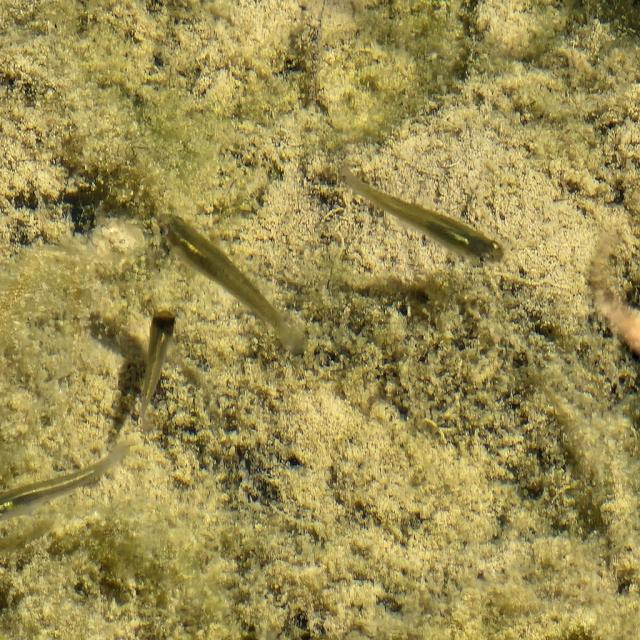Sivrisinek Baligi: (155, 205, 308, 357), (336, 156, 506, 267), (0, 425, 145, 520)
